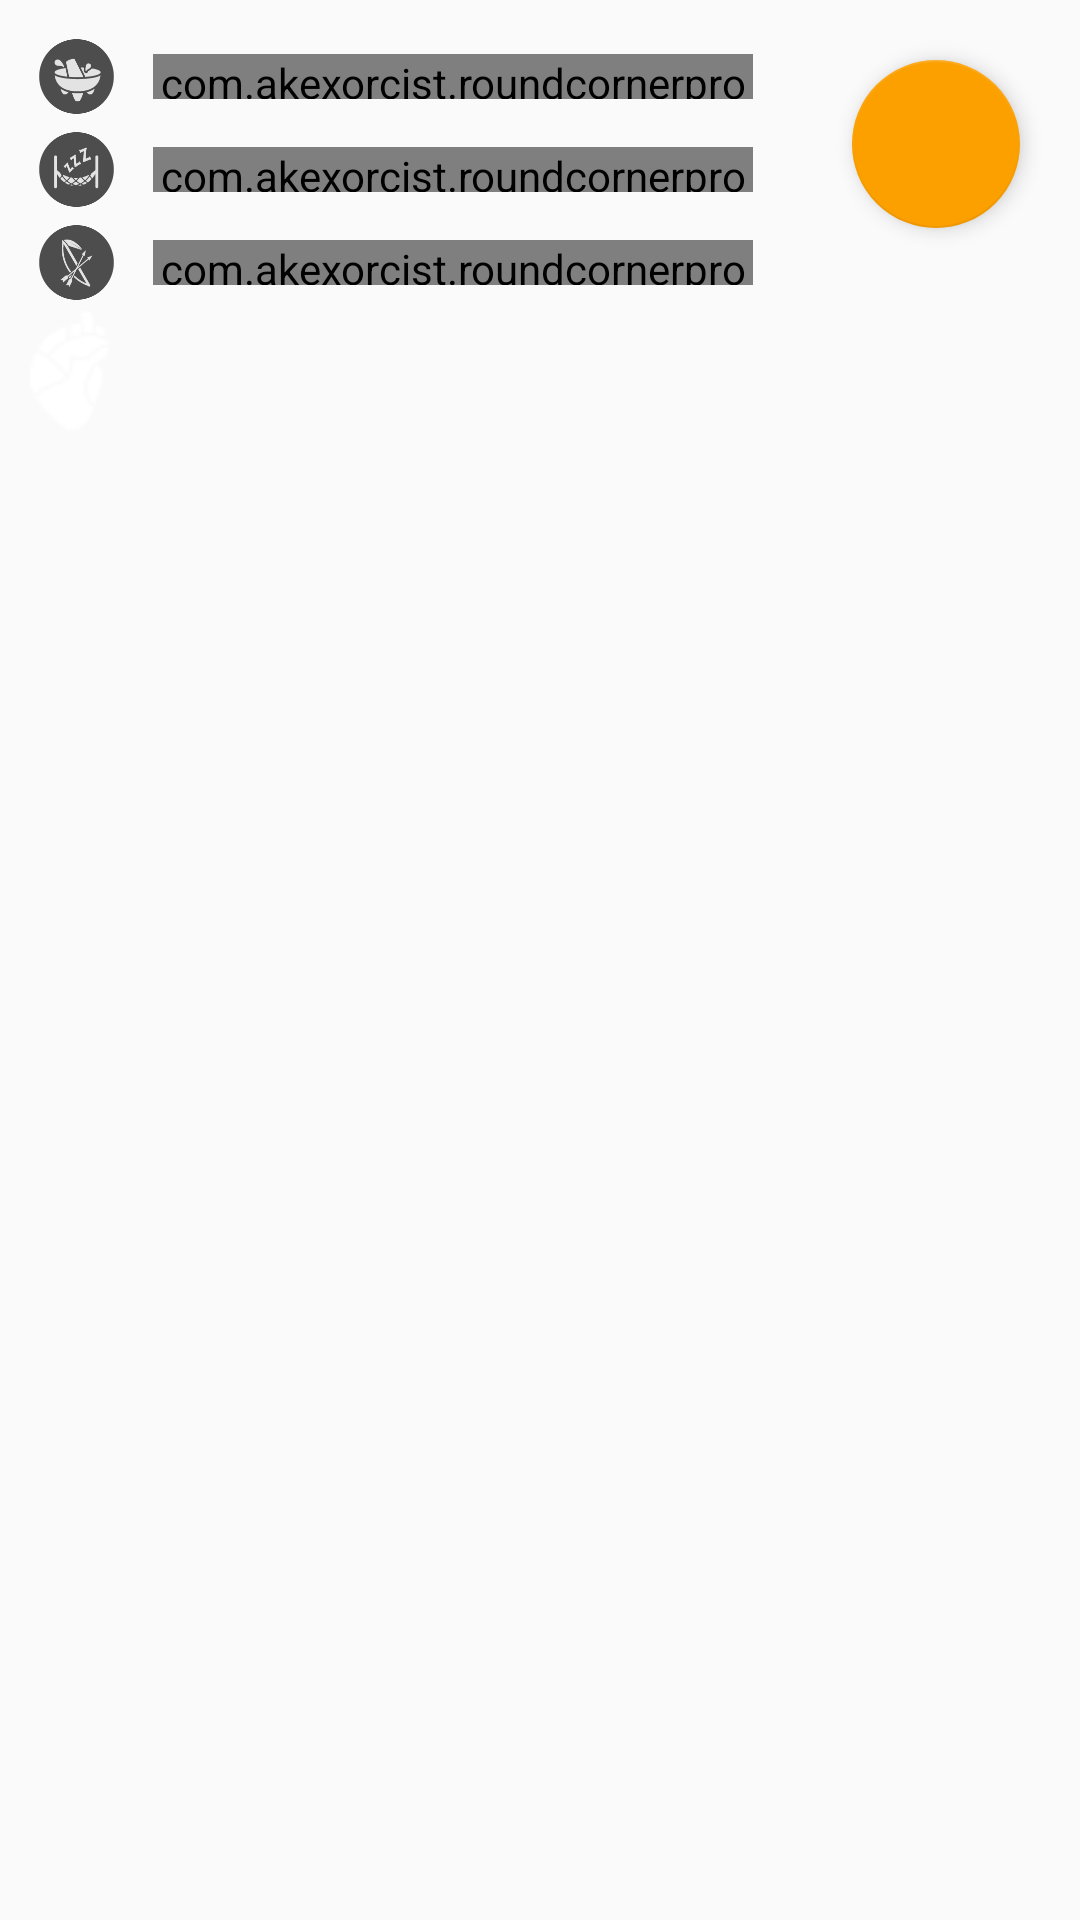

Where to tap for icons on this 1080px x 1920px app screen, as (x,y):
feed: (76,76)
sleep: (76,169)
